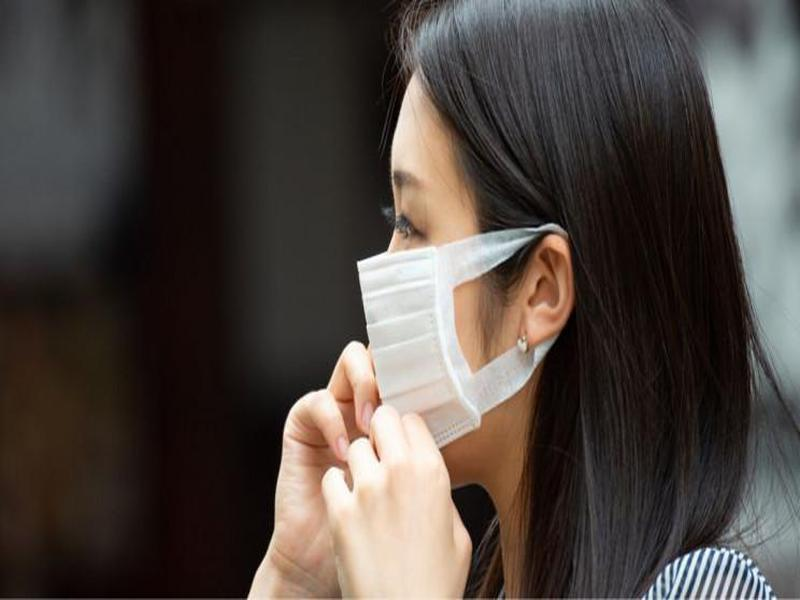with_mask: (350, 1, 730, 493)
